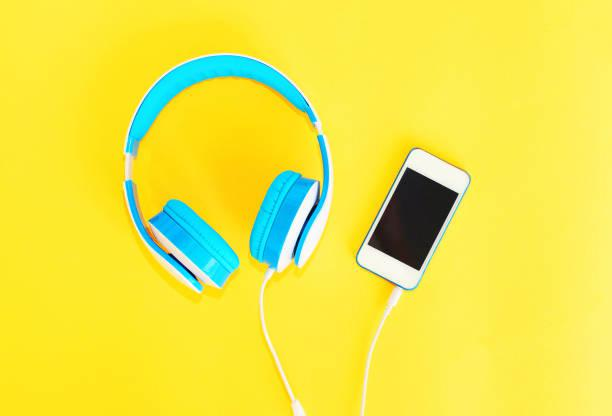headphone: (119, 51, 357, 298)
